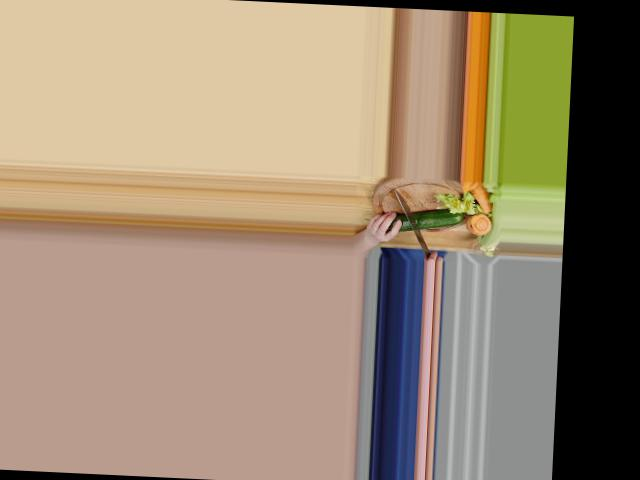cucumber: (387, 207, 464, 234)
